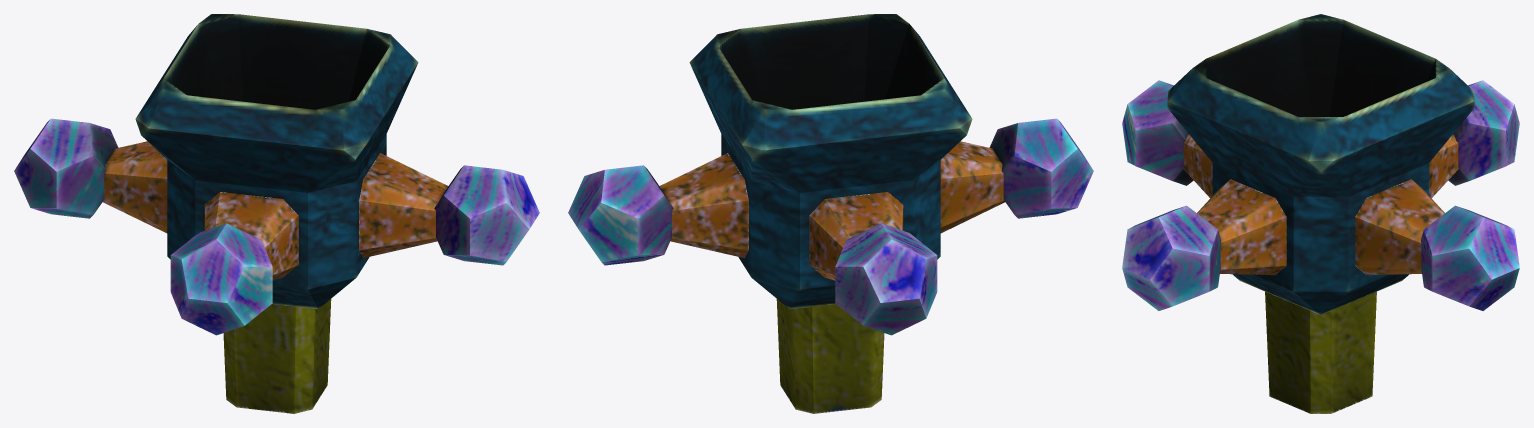
The model's file is EctoLOD2Mid.fbx.
3 views of the same model, side by side, from view 1: azimuth 30°, elevation 25°; view 2: azimuth 150°, elevation 25°; view 3: azimuth 270°, elevation 25° (orthographic). The views are drawn at different scales.
Visible parts, largest first — view 1: polySurface1852; view 2: polySurface1852; view 3: polySurface1852.
Part boxes in pixels (x1,y1,x2,y2): polySurface1852: (14,14,539,413); polySurface1852: (568,14,1093,413); polySurface1852: (1122,14,1519,413).
Bounding box in the file's own units: 2.6 × 2.34 × 2.6.
Materials: 1 (1 with a texture image).
